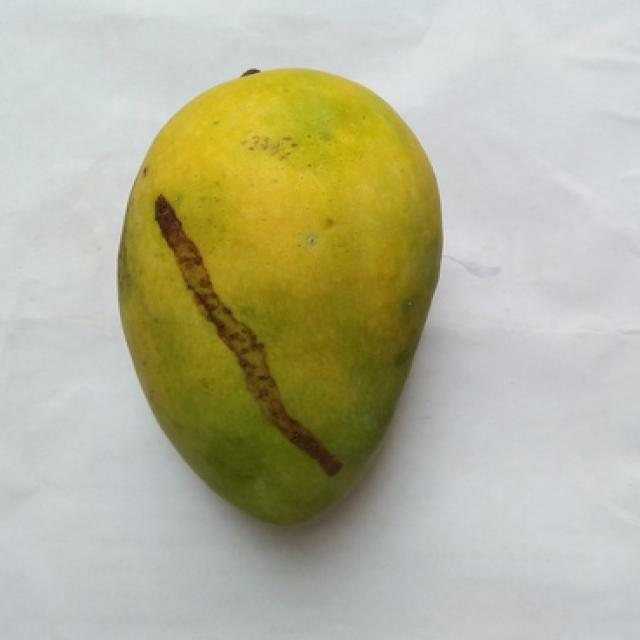Mango: (122, 68, 437, 523)
